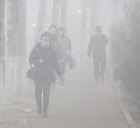person: (26, 29, 61, 121), (86, 24, 111, 86), (55, 27, 77, 87)
